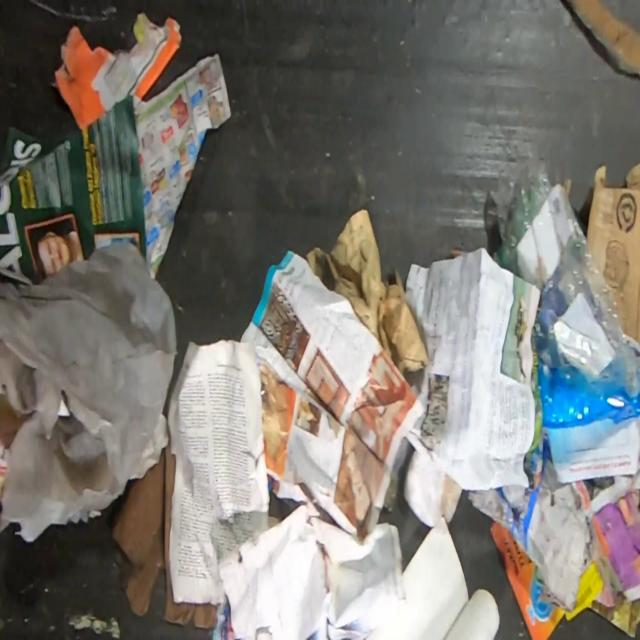cardboard: (586, 161, 640, 345), (566, 0, 640, 74)
soft_plastic: (0, 241, 178, 525), (485, 154, 640, 429)
